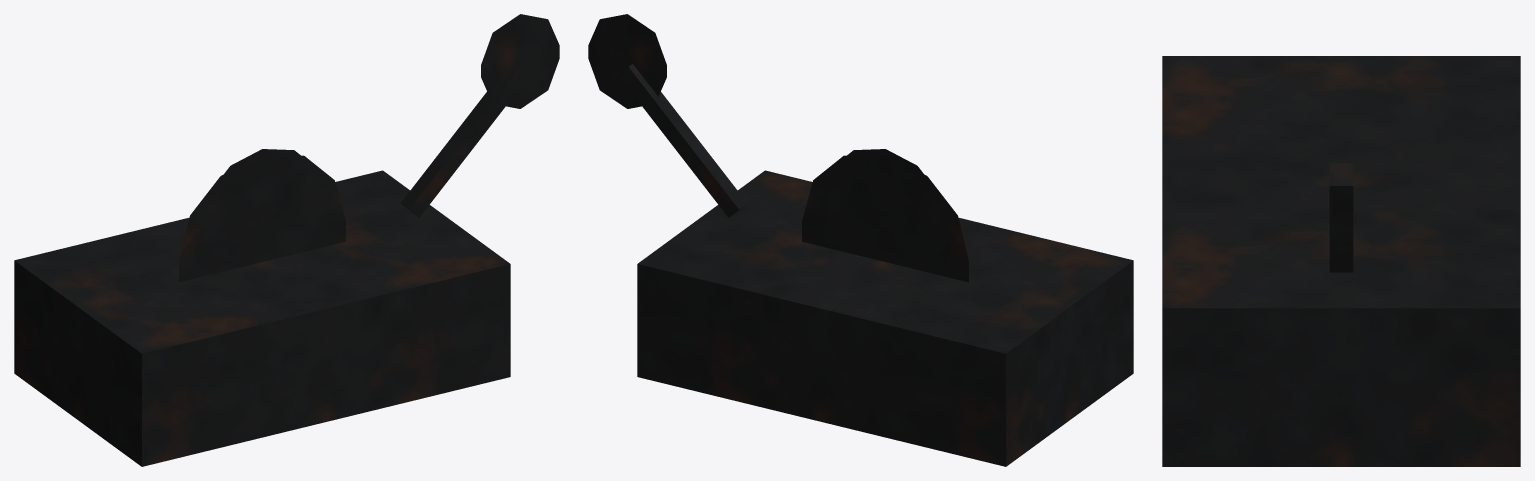
Rendered from B_winch.glb.
The picture shows the model from 3 angles, left to right: view 1: azimuth 30°, elevation 25°; view 2: azimuth 150°, elevation 25°; view 3: azimuth 270°, elevation 25°; orthographic projection. The views are drawn at different scales.
Parts seen in each view (by area): view 1: B_winch; view 2: B_winch; view 3: B_winch.
Boxes of the visible parts, x1,y1,x2,y2 form: B_winch: (14, 14, 559, 466); B_winch: (588, 14, 1133, 466); B_winch: (1162, 56, 1520, 466).
Size of the model in its own units: 1.96 by 1.16 by 0.9.
1 material, 1 textured.
